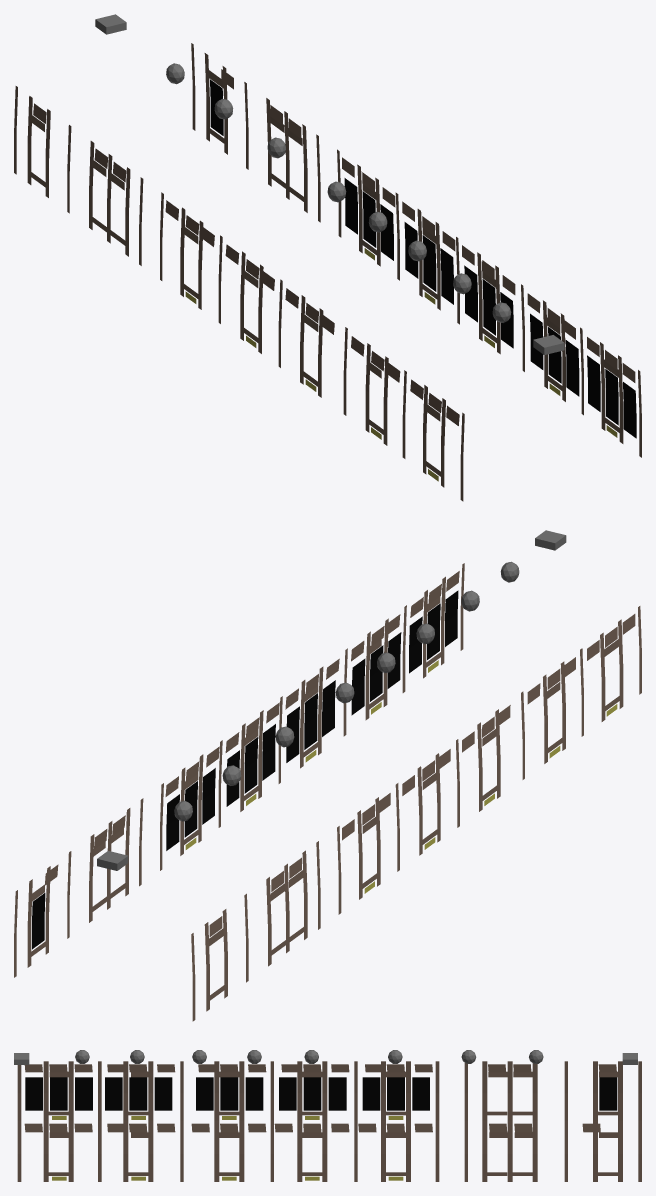
The model's file is lnwr-50ft-non-cor-brake-third-windows.dae.
The picture shows the model from 3 angles, top to bottom: view 1: azimuth 30°, elevation 25°; view 2: azimuth 150°, elevation 25°; view 3: azimuth 270°, elevation 25°; orthographic projection. The views are drawn at different scales.
Visible parts, largest first — view 1: no part large enough to name; view 2: no part large enough to name; view 3: Plane_2187, Plane_2226, Plane_2227, Plane_2236, Plane_2237, Plane_2243, Plane_2306, Plane_2307, Plane_2190, Plane_2191, Plane_2223, Plane_2240 (+52 smaller).
Boxes of the visible parts, bbox=[...] form: Plane_2187: bbox=[362, 1077, 380, 1110]; Plane_2226: bbox=[220, 1077, 238, 1110]; Plane_2227: bbox=[245, 1077, 263, 1110]; Plane_2236: bbox=[154, 1077, 172, 1110]; Plane_2237: bbox=[129, 1077, 147, 1110]; Plane_2243: bbox=[599, 1077, 617, 1110]; Plane_2306: bbox=[328, 1077, 346, 1110]; Plane_2307: bbox=[303, 1077, 321, 1110]; Plane_2190: bbox=[387, 1077, 404, 1110]; Plane_2191: bbox=[412, 1077, 429, 1110]; Plane_2223: bbox=[196, 1077, 213, 1110]; Plane_2240: bbox=[105, 1077, 122, 1110].
Size of the model in its own units: 1.94 by 8.47 by 1.49.
